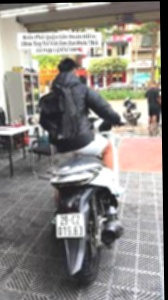Bien-so: (50, 212, 86, 240)
